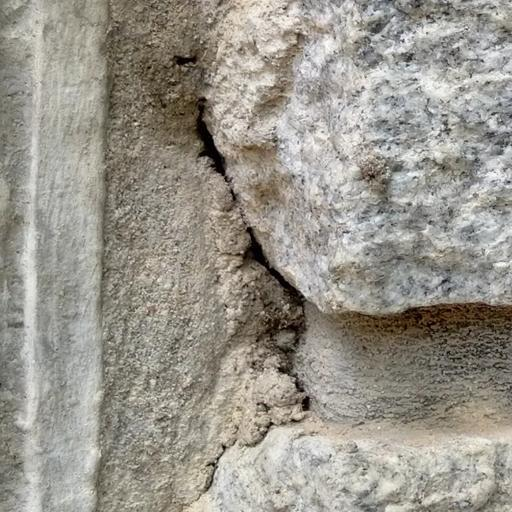major_crack: (171, 31, 325, 496)
